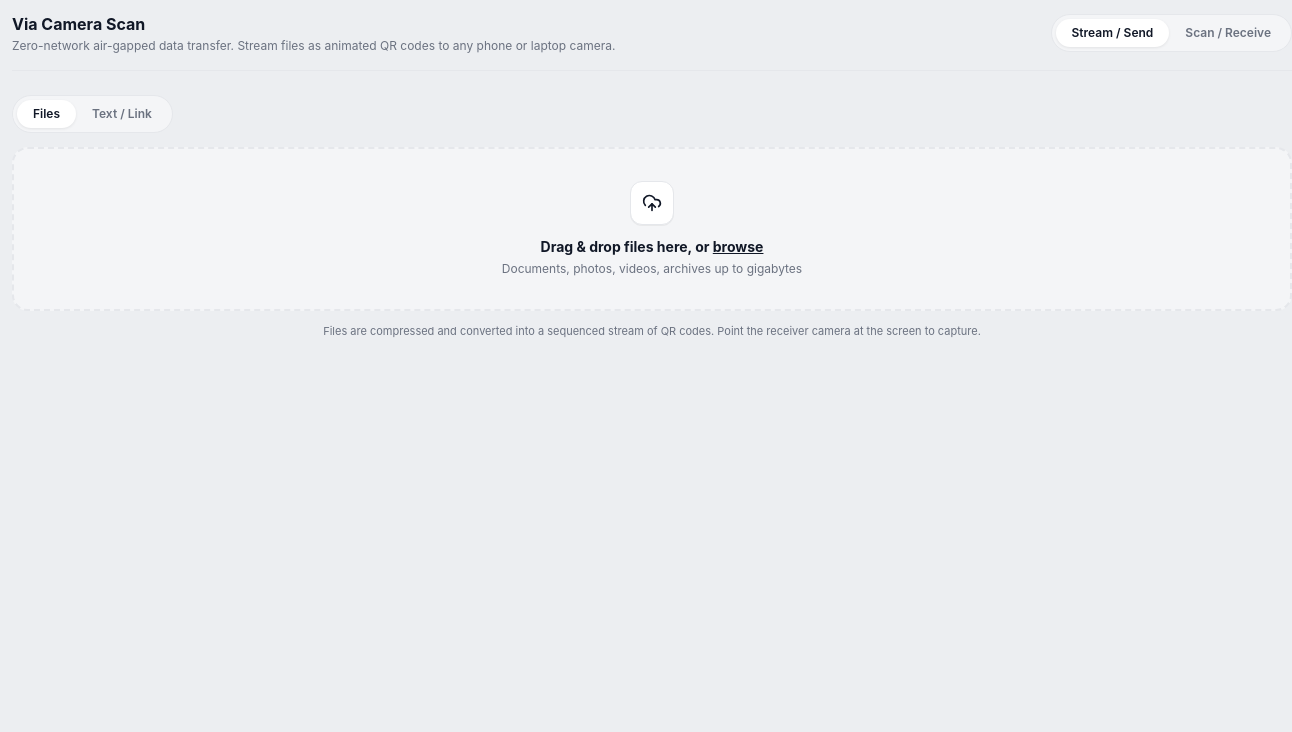
Test: CameraStreamCard Component › completes optical receive flow with parity recovery, stops camera, and presents Save / Download button
Later steps or results of the test are not shown.
Click the tab "Scan / Receive" at (1228, 33), box [1169, 19, 1287, 47]
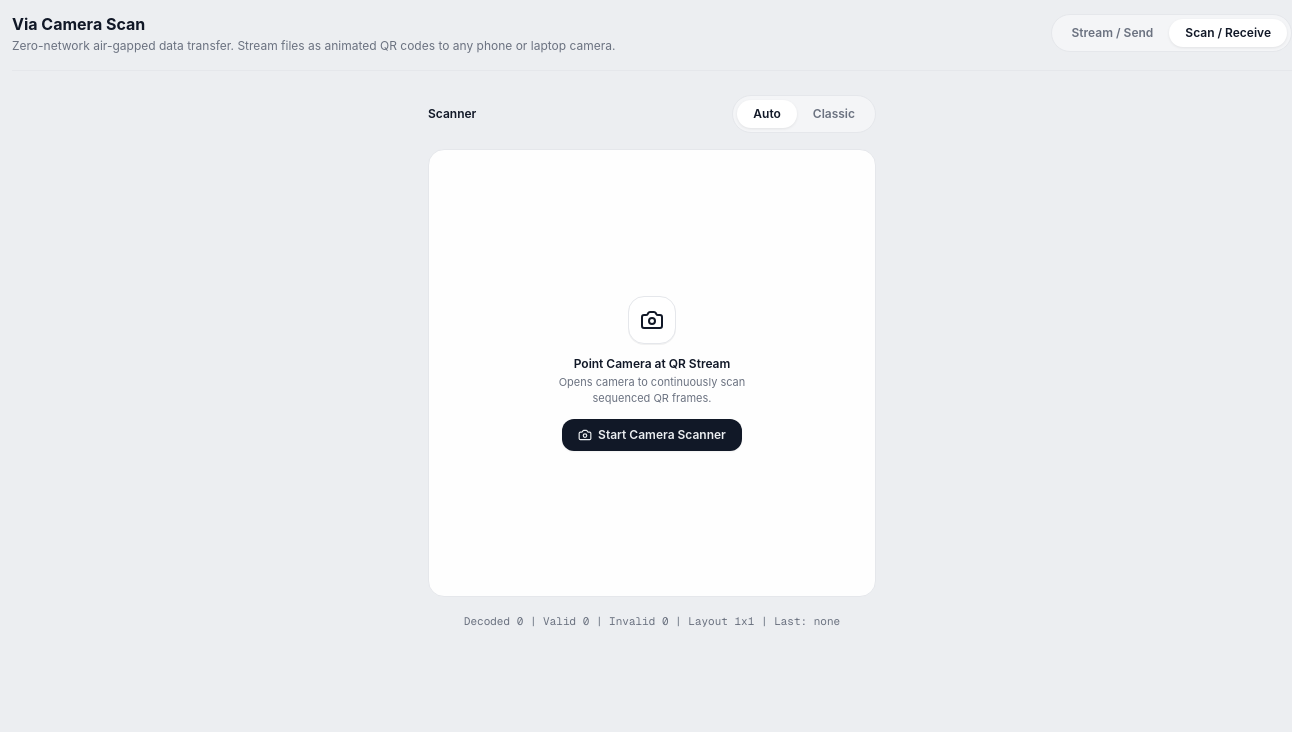
Expected: the button "Start Camera Scanner" is shown
Click the button "Start Camera Scanner" at (652, 434), box [562, 418, 742, 450]
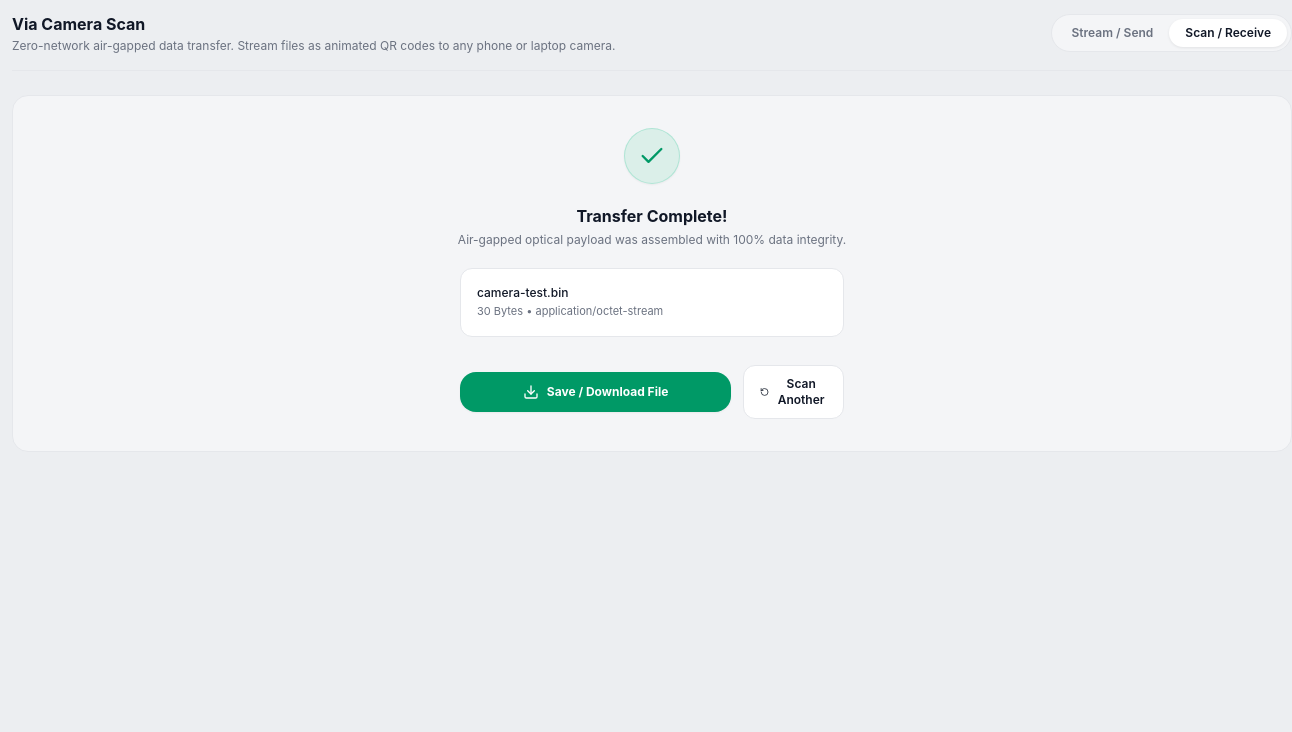
Expected: the text "Transfer Complete!" is shown, [576, 206, 728, 226]
Expected: the text "camera-test.bin" is shown, [477, 285, 568, 300]
Expected: the button "Save / Download File" is shown, [460, 372, 731, 412]
